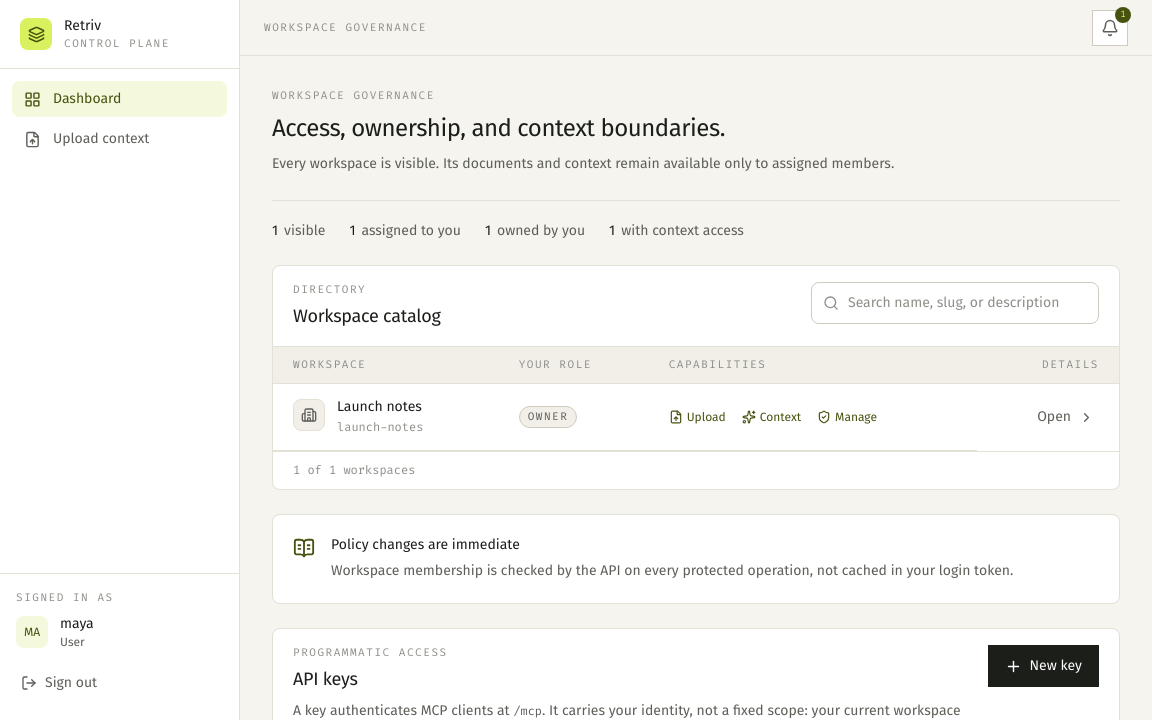
Test case: dashboard application › reloads processing activity only when Refresh is pressed
This screenshot has width=1152, height=720.
Step 1. Click the button named "Open processing notifications, 1 recent runs" → click(1110, 28), box [1092, 10, 1128, 46]
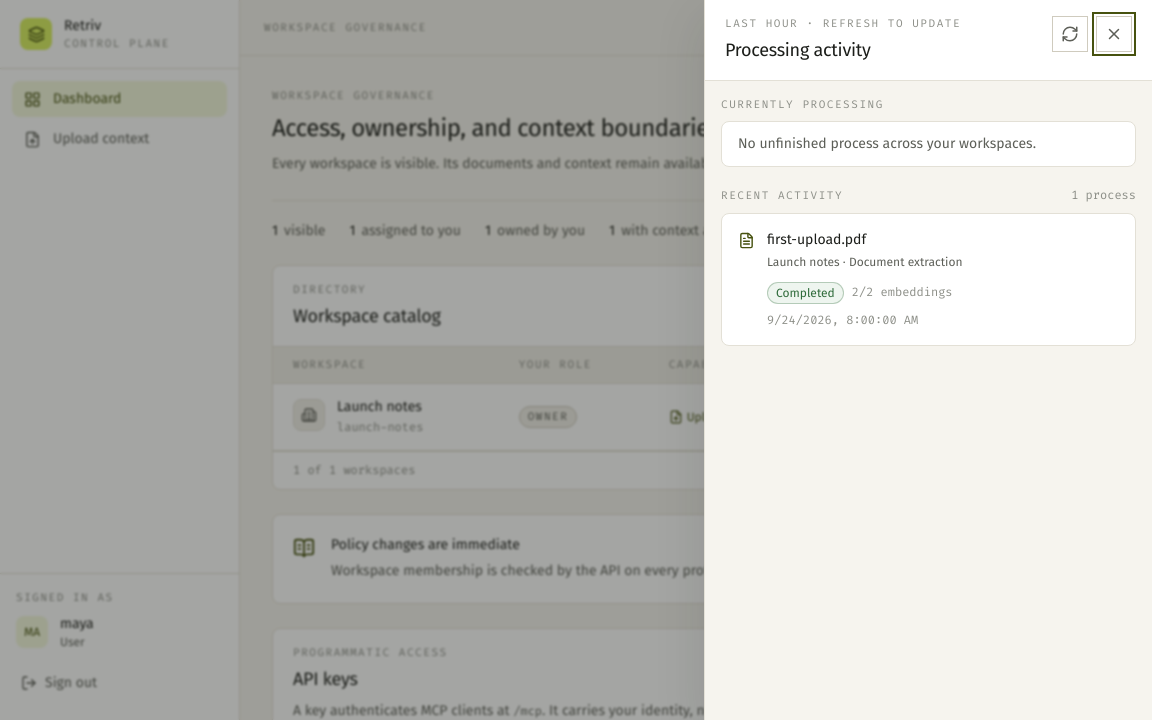
Expected: the text "first-upload.pdf" is shown, [767, 231, 866, 248]
Step 2. Click the button named "Refresh processing activity" → click(1070, 34), box [1052, 16, 1088, 52]
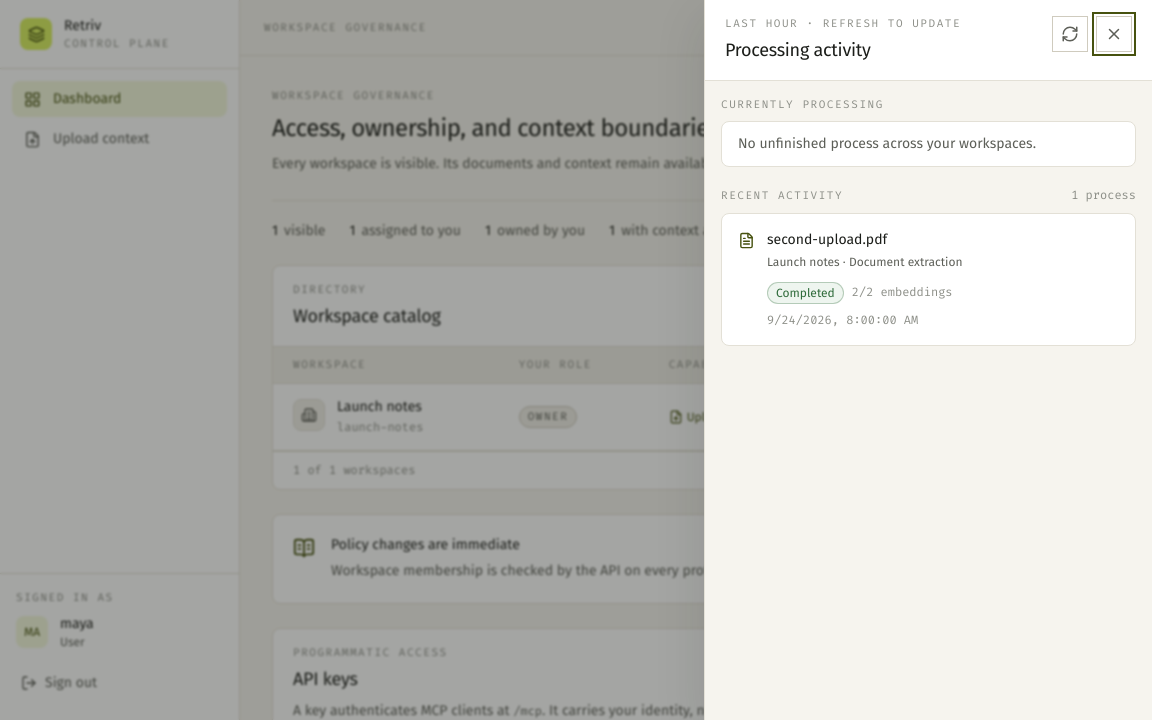
Expected: the text "second-upload.pdf" is shown, [767, 231, 887, 248]
Expected: the text "first-upload.pdf" is gone
